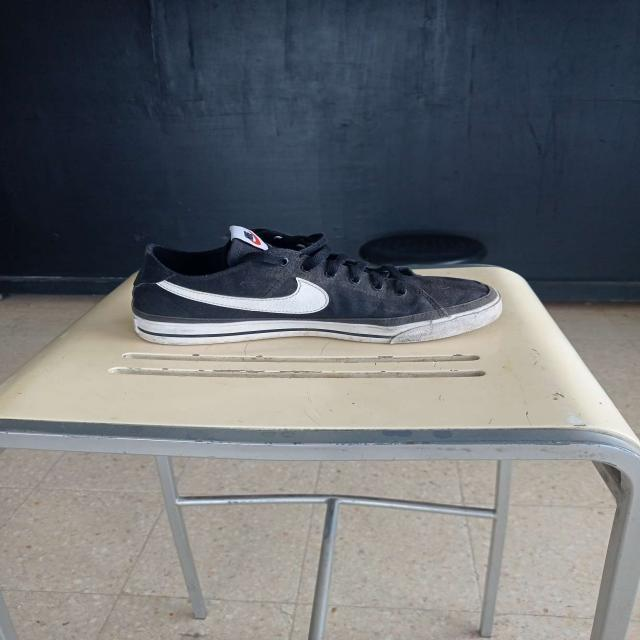shoe: (132, 223, 504, 345)
